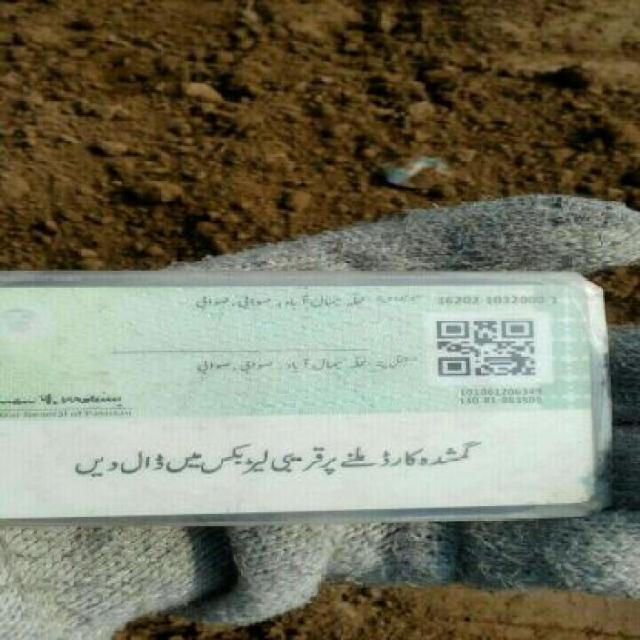Back: (3, 277, 605, 517)
